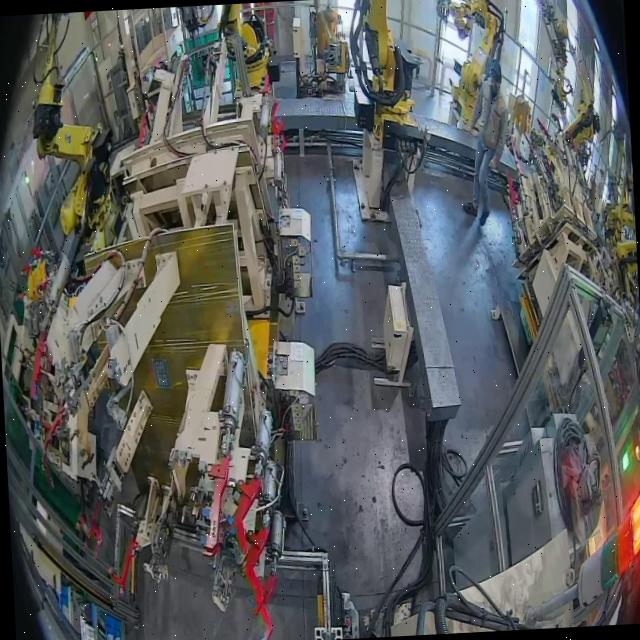Person: (456, 58, 516, 227)
